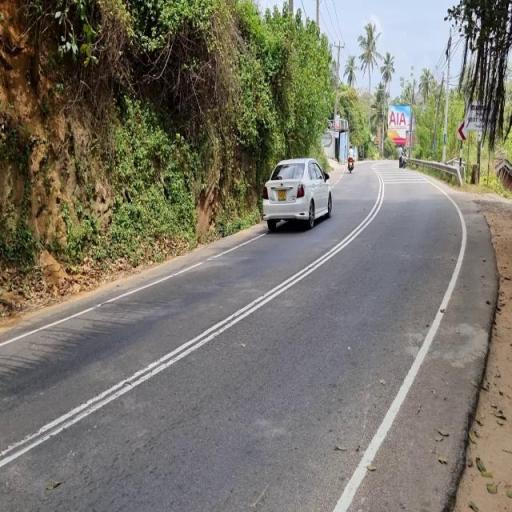double_white_line: (0, 162, 381, 470)
